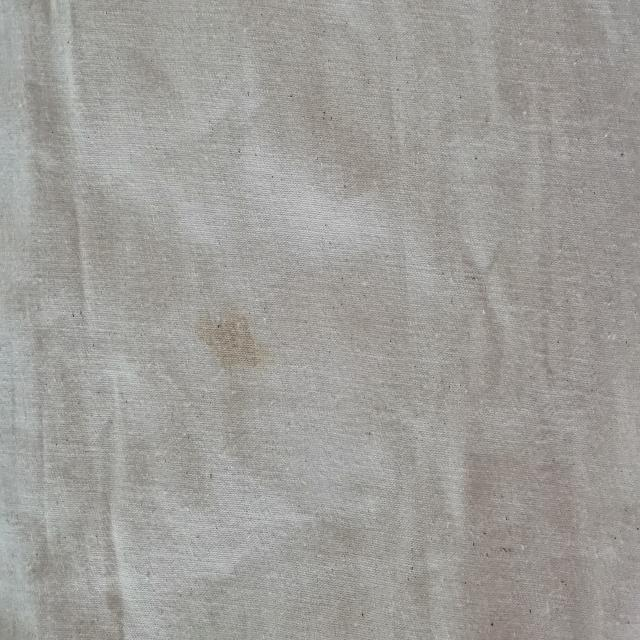taaaches: (194, 289, 274, 383)
